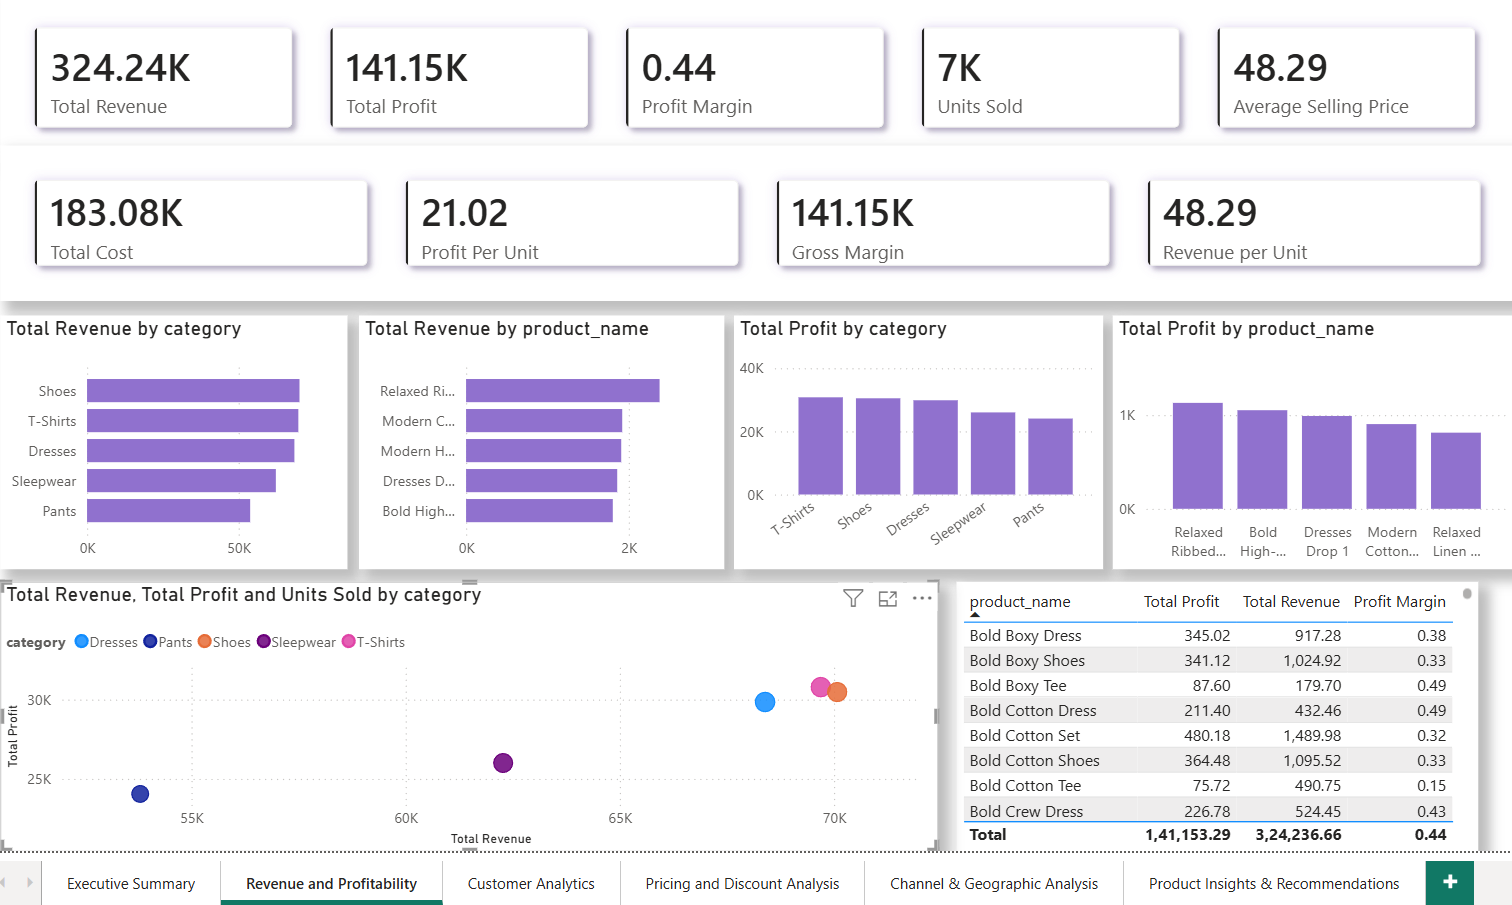

This screenshot's page, from the dashboard's own definition file:
{"tool":"powerbi","page":{"name":"Revenue and Profitability ","canvas":[1280,720],"ordinal":1},"visuals":[{"type":"cardVisual","fields":{"Data":["salesitems.Total Revenue","salesitems.Total Profit","salesitems.Profit Margin","salesitems.Units Sold","salesitems.Average Selling Price"]},"box":[9.6,0,1270.7,142.7],"z":0},{"type":"cardVisual","fields":{"Data":["salesitems.Total Cost","salesitems.Profit Per Unit","salesitems.Gross Margin","salesitems.Revenue per Unit"]},"box":[9.6,127.6,1270.7,130.4],"z":1000},{"type":"clusteredBarChart","fields":{"Category":["products.category"],"Y":["salesitems.Total Revenue"]},"box":[9.8,270.7,291.4,213.1],"z":2000},{"type":"clusteredBarChart","fields":{"Category":["products.product_name"],"Y":["salesitems.Total Revenue"]},"box":[309.9,270.7,306.6,213.1],"z":3000},{"type":"clusteredColumnChart","fields":{"Category":["products.category"],"Y":["salesitems.Total Profit"]},"box":[625.2,270.7,309.9,213.1],"z":4000},{"type":"clusteredColumnChart","fields":{"Category":["products.product_name"],"Y":["salesitems.Total Profit"]},"box":[942.7,270.7,337.1,213.1],"z":5000},{"type":"scatterChart","fields":{"Series":["products.category"],"Size":["salesitems.Units Sold"],"X":["salesitems.Total Revenue"],"Y":["salesitems.Total Profit"]},"box":[9.6,494,786.3,226.4],"z":6000},{"type":"tableEx","fields":{"Values":["products.product_name","salesitems.Total Profit","salesitems.Total Revenue","salesitems.Profit Margin"]},"box":[811,494,437.7,226.4],"z":7000}]}

Visuals, with their boxes on the page's 1280x720 design canvas (x1, y1, x2, y2). These are canvas units, not pixel positions in the 1512x905 screenshot, which may show the page scaled, cropped or inside an application window:
cardVisual - salesitems.Total Revenue x salesitems.Total Profit: {"left": 10, "top": 0, "right": 1280, "bottom": 143}
cardVisual - salesitems.Total Cost x salesitems.Profit Per Unit: {"left": 10, "top": 128, "right": 1280, "bottom": 258}
clusteredBarChart - products.category x salesitems.Total Revenue: {"left": 10, "top": 271, "right": 301, "bottom": 484}
clusteredBarChart - products.product_name x salesitems.Total Revenue: {"left": 310, "top": 271, "right": 616, "bottom": 484}
clusteredColumnChart - products.category x salesitems.Total Profit: {"left": 625, "top": 271, "right": 935, "bottom": 484}
clusteredColumnChart - products.product_name x salesitems.Total Profit: {"left": 943, "top": 271, "right": 1280, "bottom": 484}
scatterChart - products.category x salesitems.Units Sold: {"left": 10, "top": 494, "right": 796, "bottom": 720}
tableEx - products.product_name x salesitems.Total Profit: {"left": 811, "top": 494, "right": 1249, "bottom": 720}
